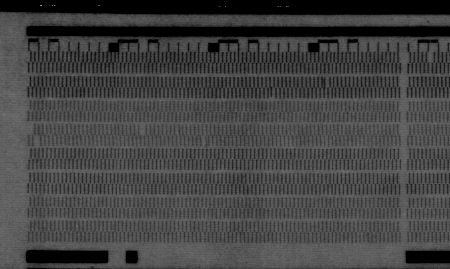Broken hole: (138, 123, 150, 137), (30, 136, 44, 148), (24, 123, 36, 136), (425, 50, 436, 63)
Oblique printing: (320, 76, 332, 89), (198, 135, 210, 148), (266, 86, 278, 98)
